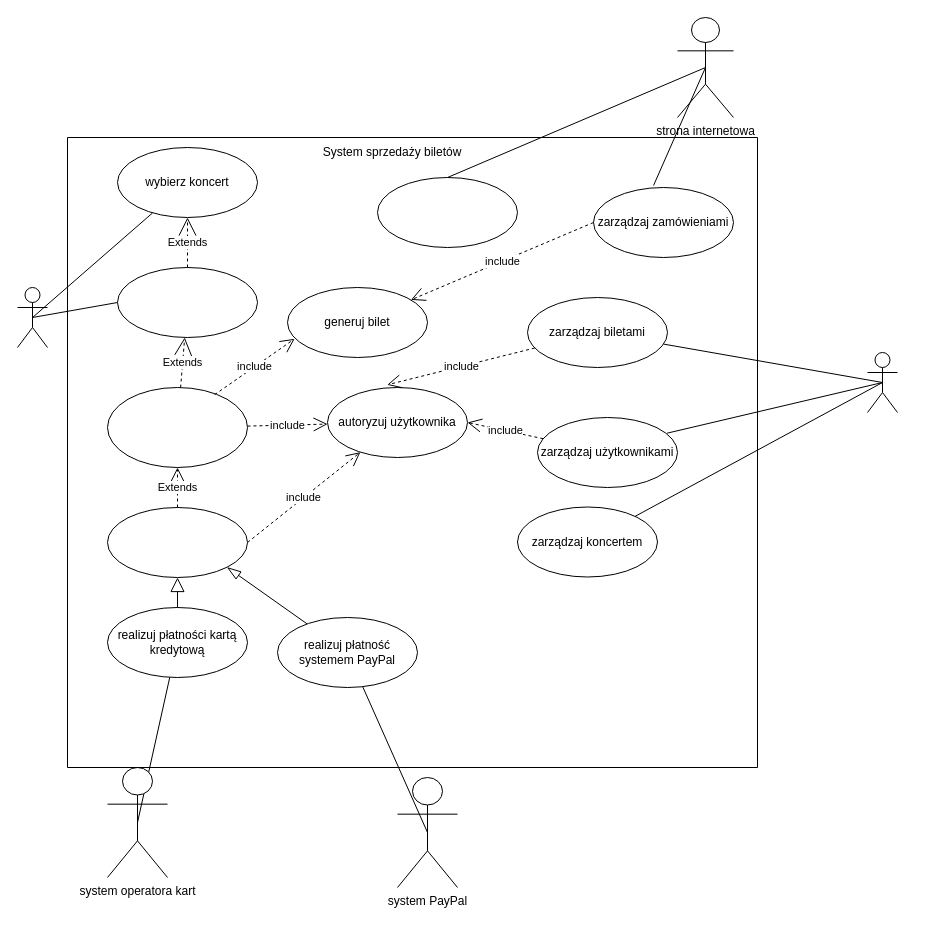
Image size: 935x926. Some labels were removed from this diagram. Each missing label, with the box of its shape:
Administrator: (866, 352, 898, 412)
Klient: (16, 286, 48, 348)
realizuj płatność: (106, 506, 248, 578)
wyślij powiadomiennie: (376, 176, 518, 248)
zarządzaj koszykiem: (116, 266, 258, 338)
złóż zamówienie: (106, 386, 248, 468)
